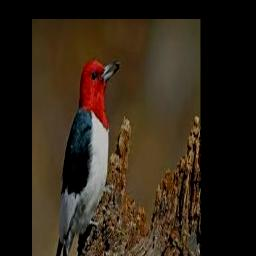Woodpecker: (53, 59, 119, 256)
